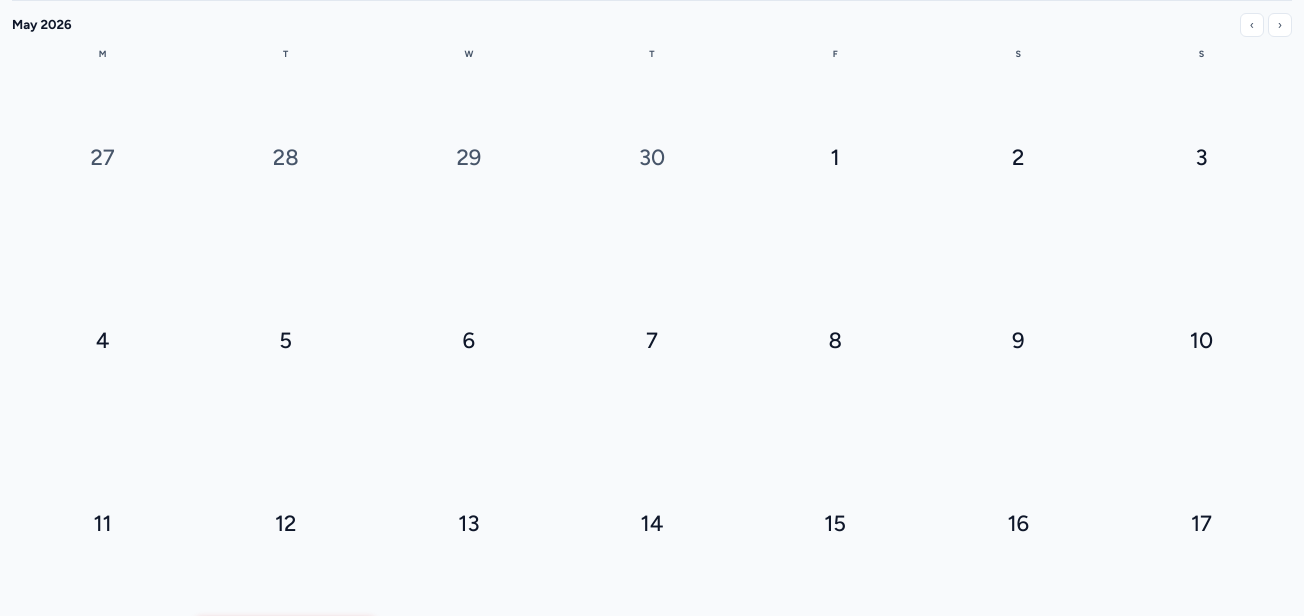
Scenario: MiniCalendar › retreats to the previous month when the previous-month button is clicked
The width and height of the screenshot is (1304, 616).
Click the button named "previous month" at (1252,25), box [1240, 13, 1264, 37]
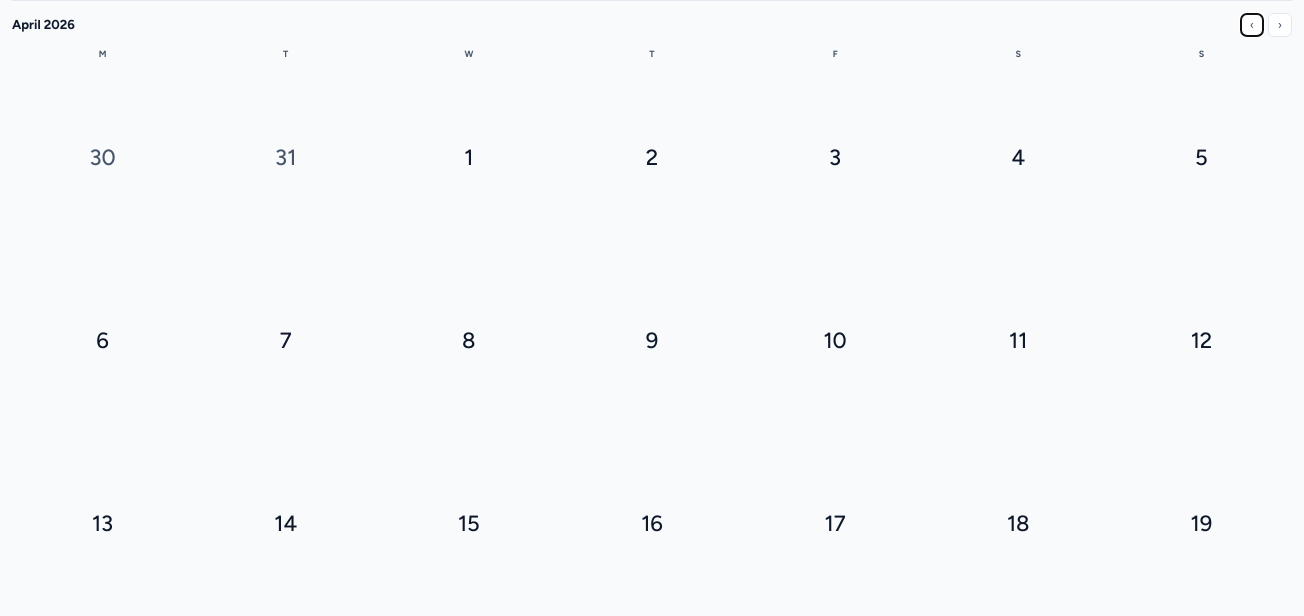
Result: the text "April 2026" is shown at [12, 15, 75, 35]
